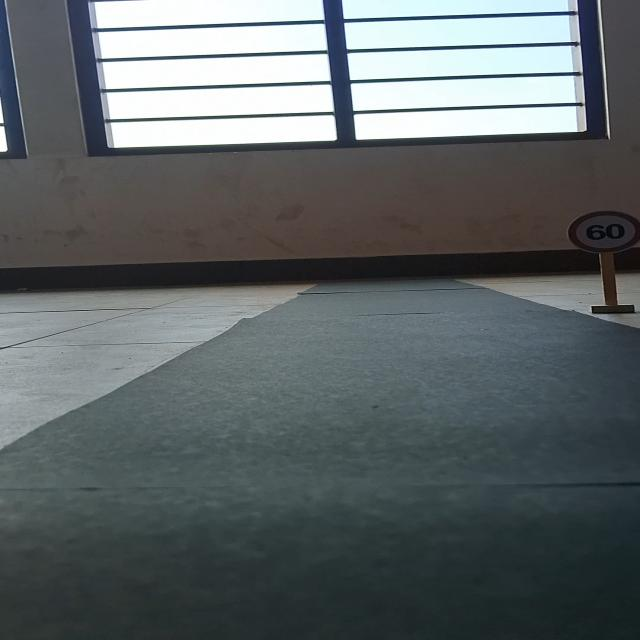Speed60: (567, 210, 640, 257)
